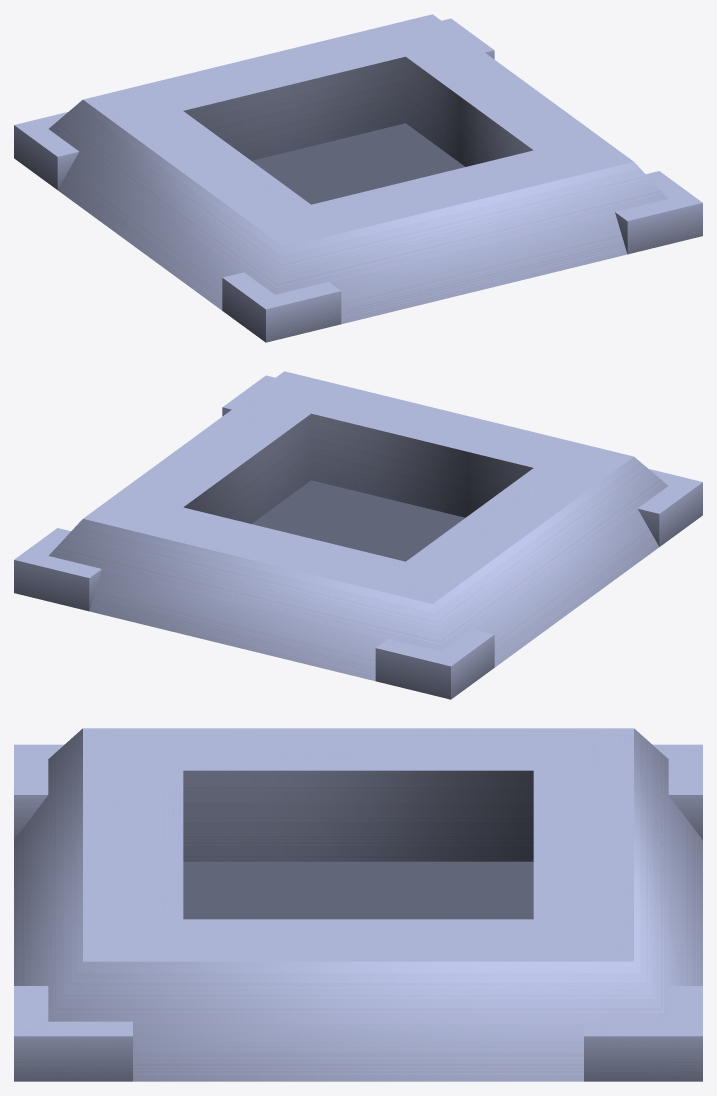
Rendered from spawn-square.glb.
3 renders of one model, top to bottom at view 1: azimuth 30°, elevation 25°; view 2: azimuth 150°, elevation 25°; view 3: azimuth 270°, elevation 25°, orthographic. The views are drawn at different scales.
Visible parts, largest first — view 1: spawn-square; view 2: spawn-square; view 3: spawn-square.
Part boxes in pixels (x1=…): spawn-square: x1=14, y1=14, x2=702, y2=342; spawn-square: x1=14, y1=371, x2=702, y2=699; spawn-square: x1=14, y1=728, x2=702, y2=1081.
Bounding box in the file's own units: 2.06 × 0.3 × 2.06.
Materials: 1 (1 with a texture image).
